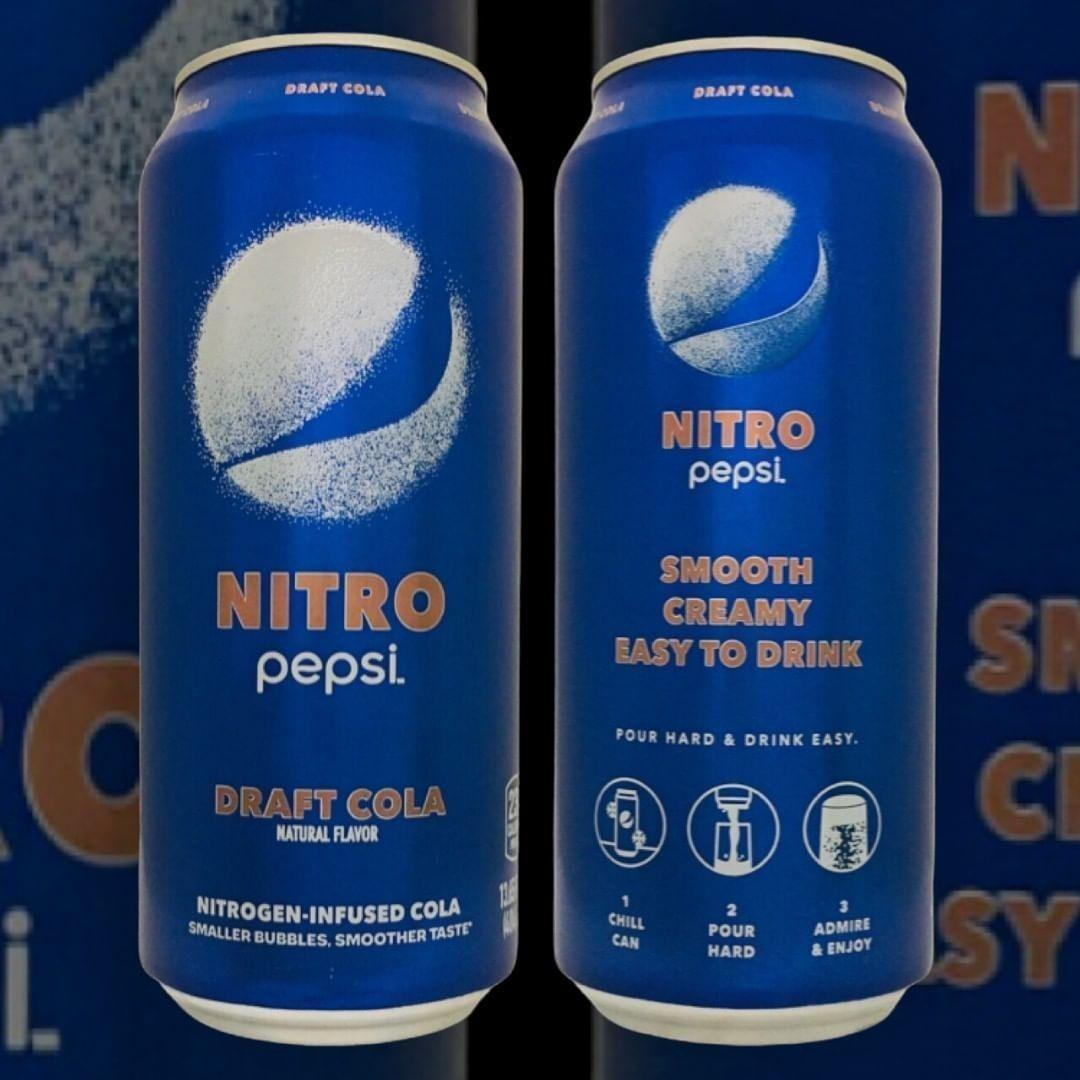tin can: (539, 23, 969, 1053), (123, 25, 539, 1064)
